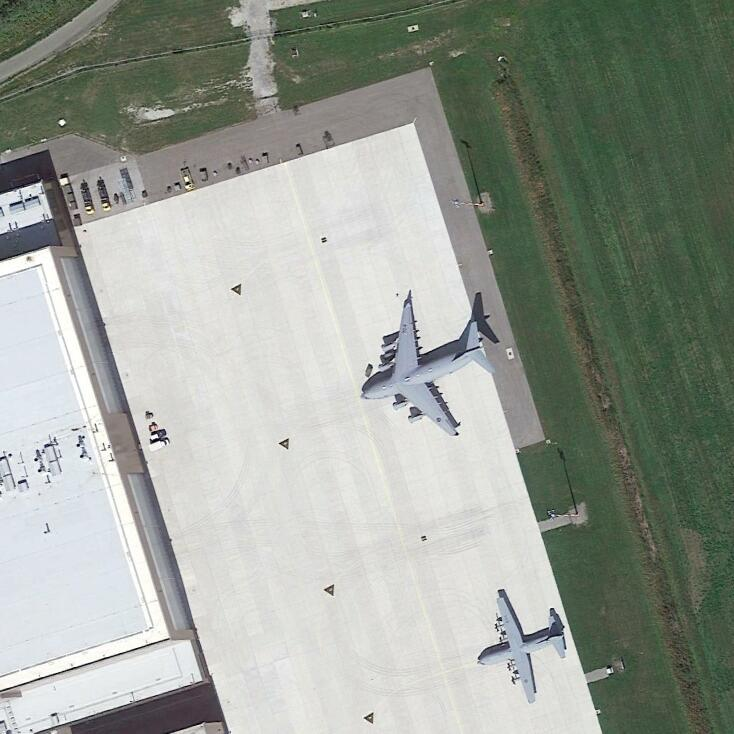A2: (469, 583, 575, 709)
A3: (357, 295, 496, 436)
